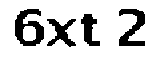2: (113, 4, 148, 51)
6: (10, 6, 44, 48)
t: (80, 10, 104, 51)
x: (44, 14, 78, 51)
